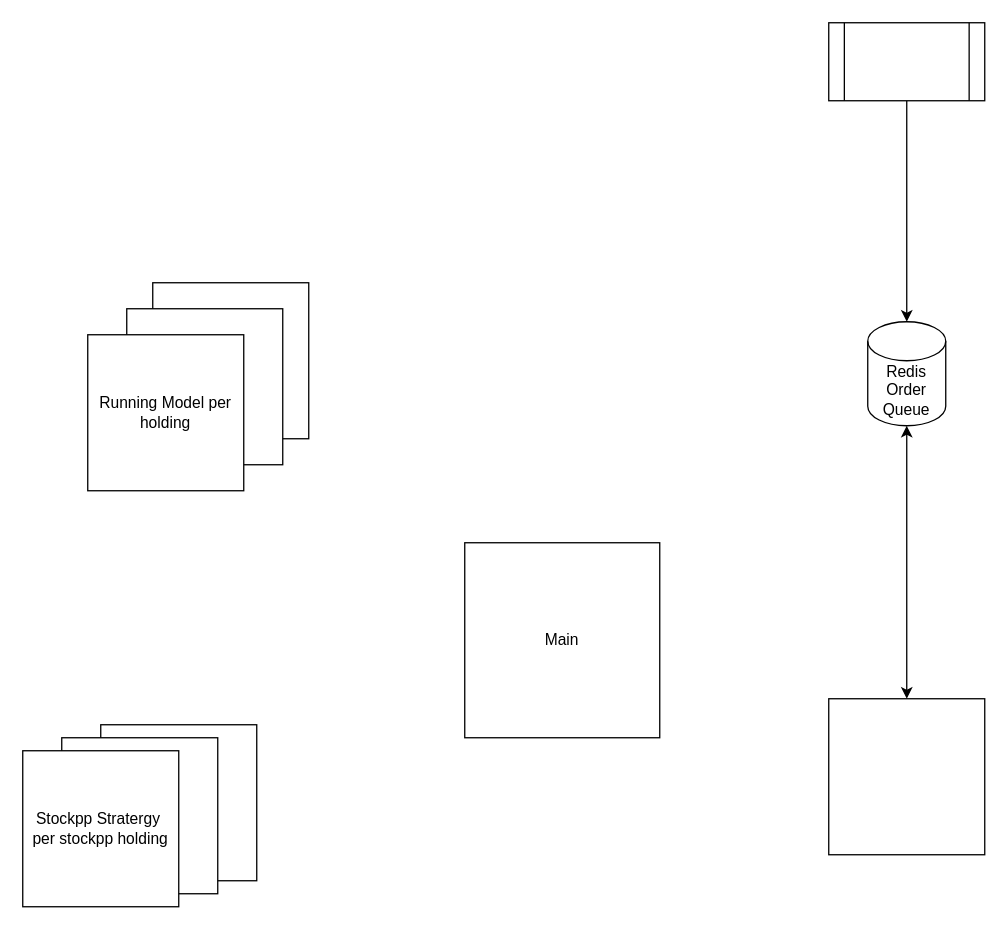
Image size: 1007x929. Some labels were removed from this diagram. Here are the shapes that lost their labels. From the top down, the centre of each, then its label:
the point at 906,61: UI
the point at 906,776: Static Strategy
